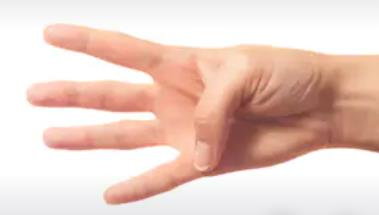right: (23, 20, 341, 213)
